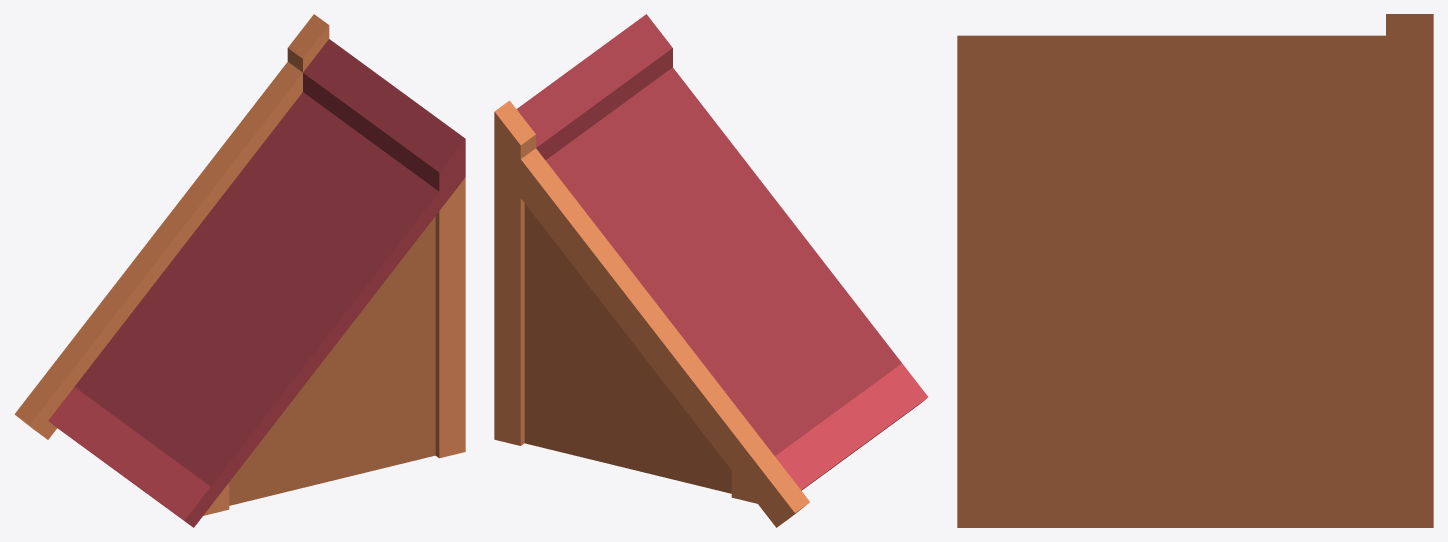
File: roofHighLeft.fbx
3 renders of one model, left to right at view 1: azimuth 30°, elevation 25°; view 2: azimuth 150°, elevation 25°; view 3: azimuth 270°, elevation 25°, orthographic. The views are drawn at different scales.
Parts seen in each view (by area): view 1: roofHighLeft; view 2: roofHighLeft; view 3: roofHighLeft.
Part boxes in pixels (x1=…): roofHighLeft: x1=14, y1=14, x2=465, y2=527; roofHighLeft: x1=494, y1=14, x2=927, y2=527; roofHighLeft: x1=957, y1=14, x2=1433, y2=527.
Size of the model in its own units: 11.41 by 12.61 by 10.
